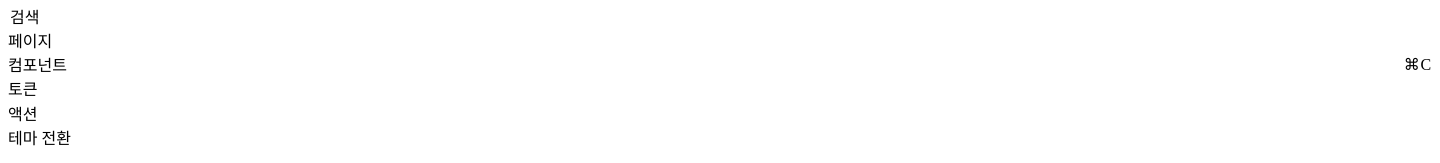
Test: Command › 매칭 없으면 CommandEmpty 표시
Type "zzzzz" into the dropdown with placeholder "검색" at {"x": 722, "y": 18}, box [8,8,1436,28]
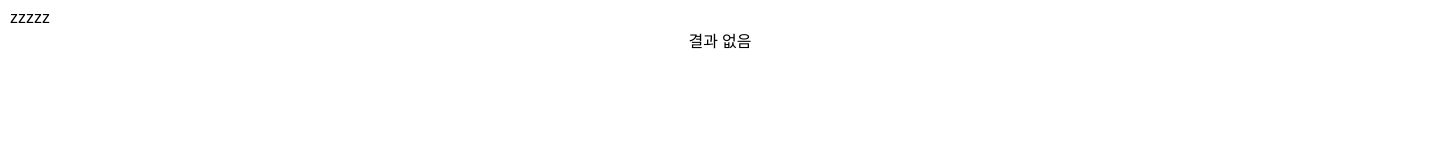
Now the text "결과 없음" is shown, box [688,33,751,50]
